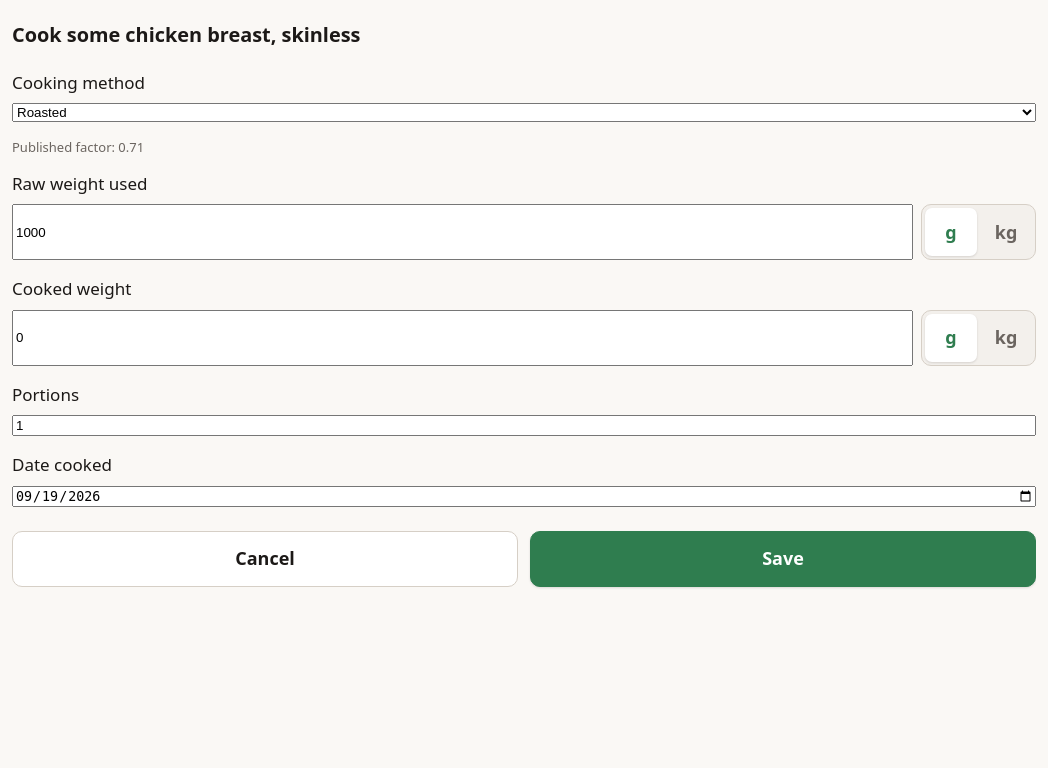
Test case: CookSessionForm › reports a failed write instead of silently doing nothing
Replace the text in the number field labelled "Raw weight used" with "400" at (462, 232), box x1=12 y1=204 x2=913 y2=260
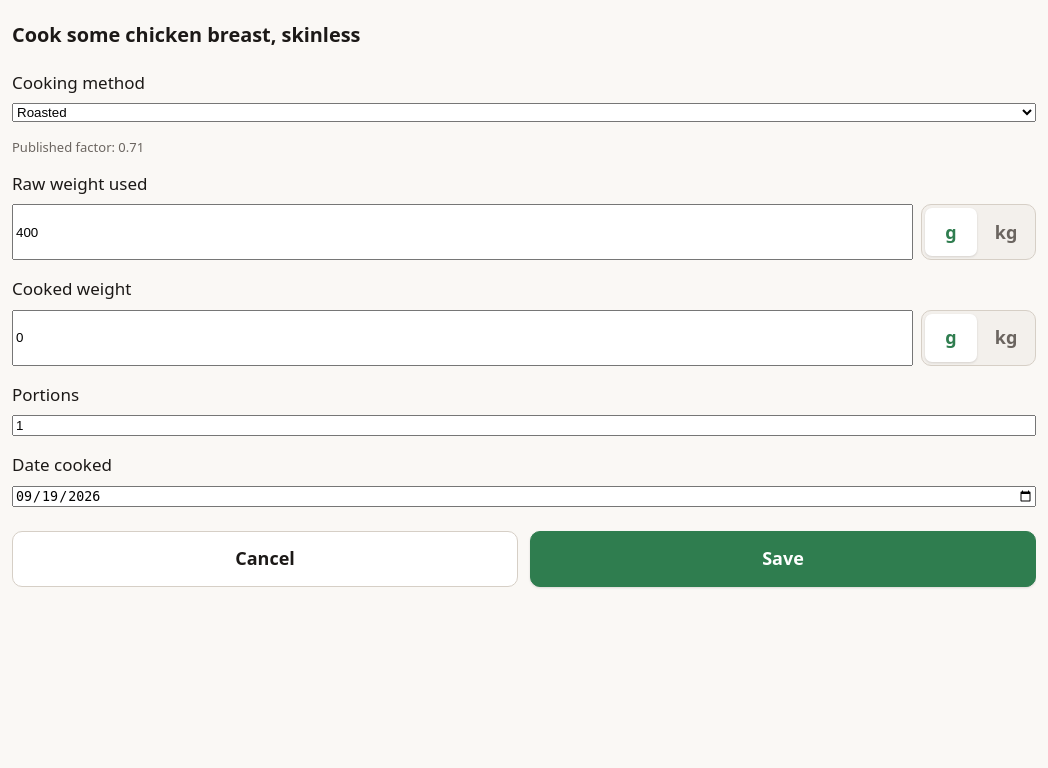
Replace the text in the number field labelled "Cooked weight" with "284" at (462, 338), box x1=12 y1=310 x2=913 y2=366
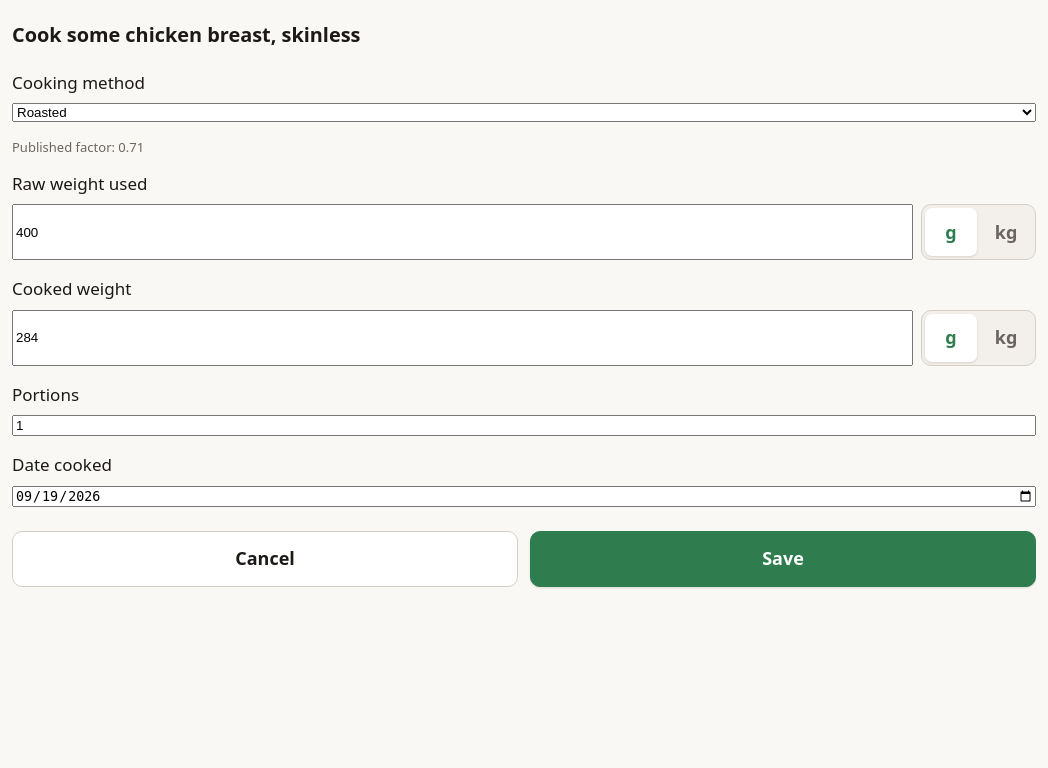
Click the button "Save" at (783, 559), box x1=530 y1=531 x2=1036 y2=587
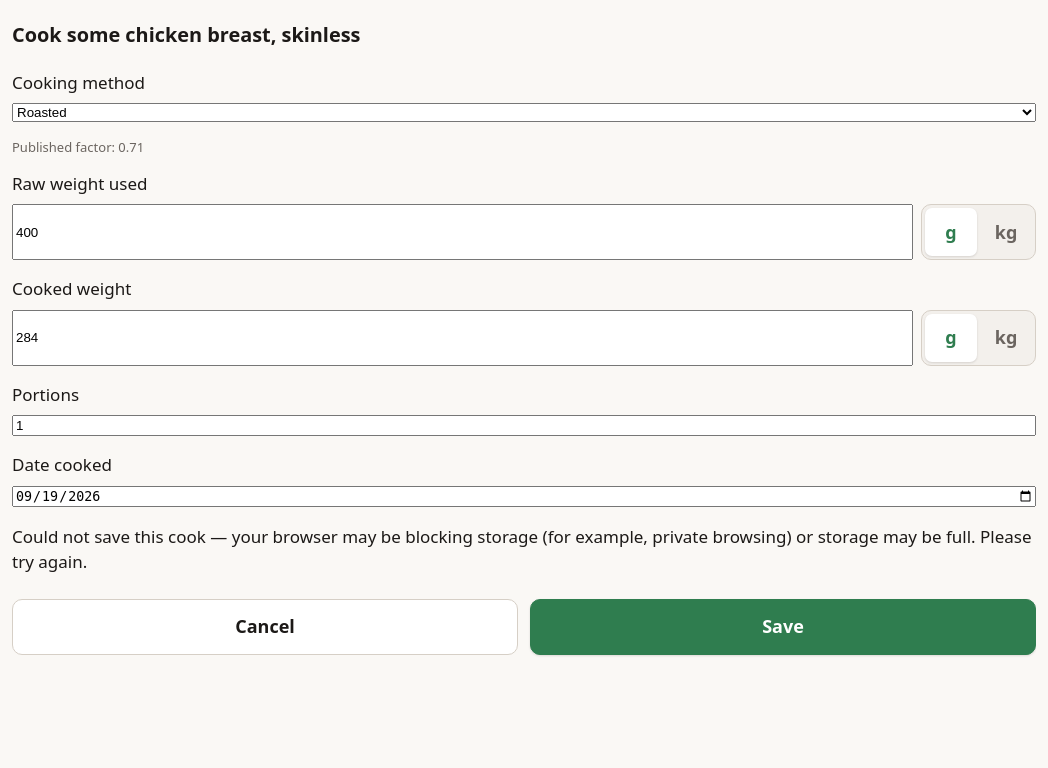
expect the message shows "storage": met, box x1=12 y1=525 x2=1032 y2=573
